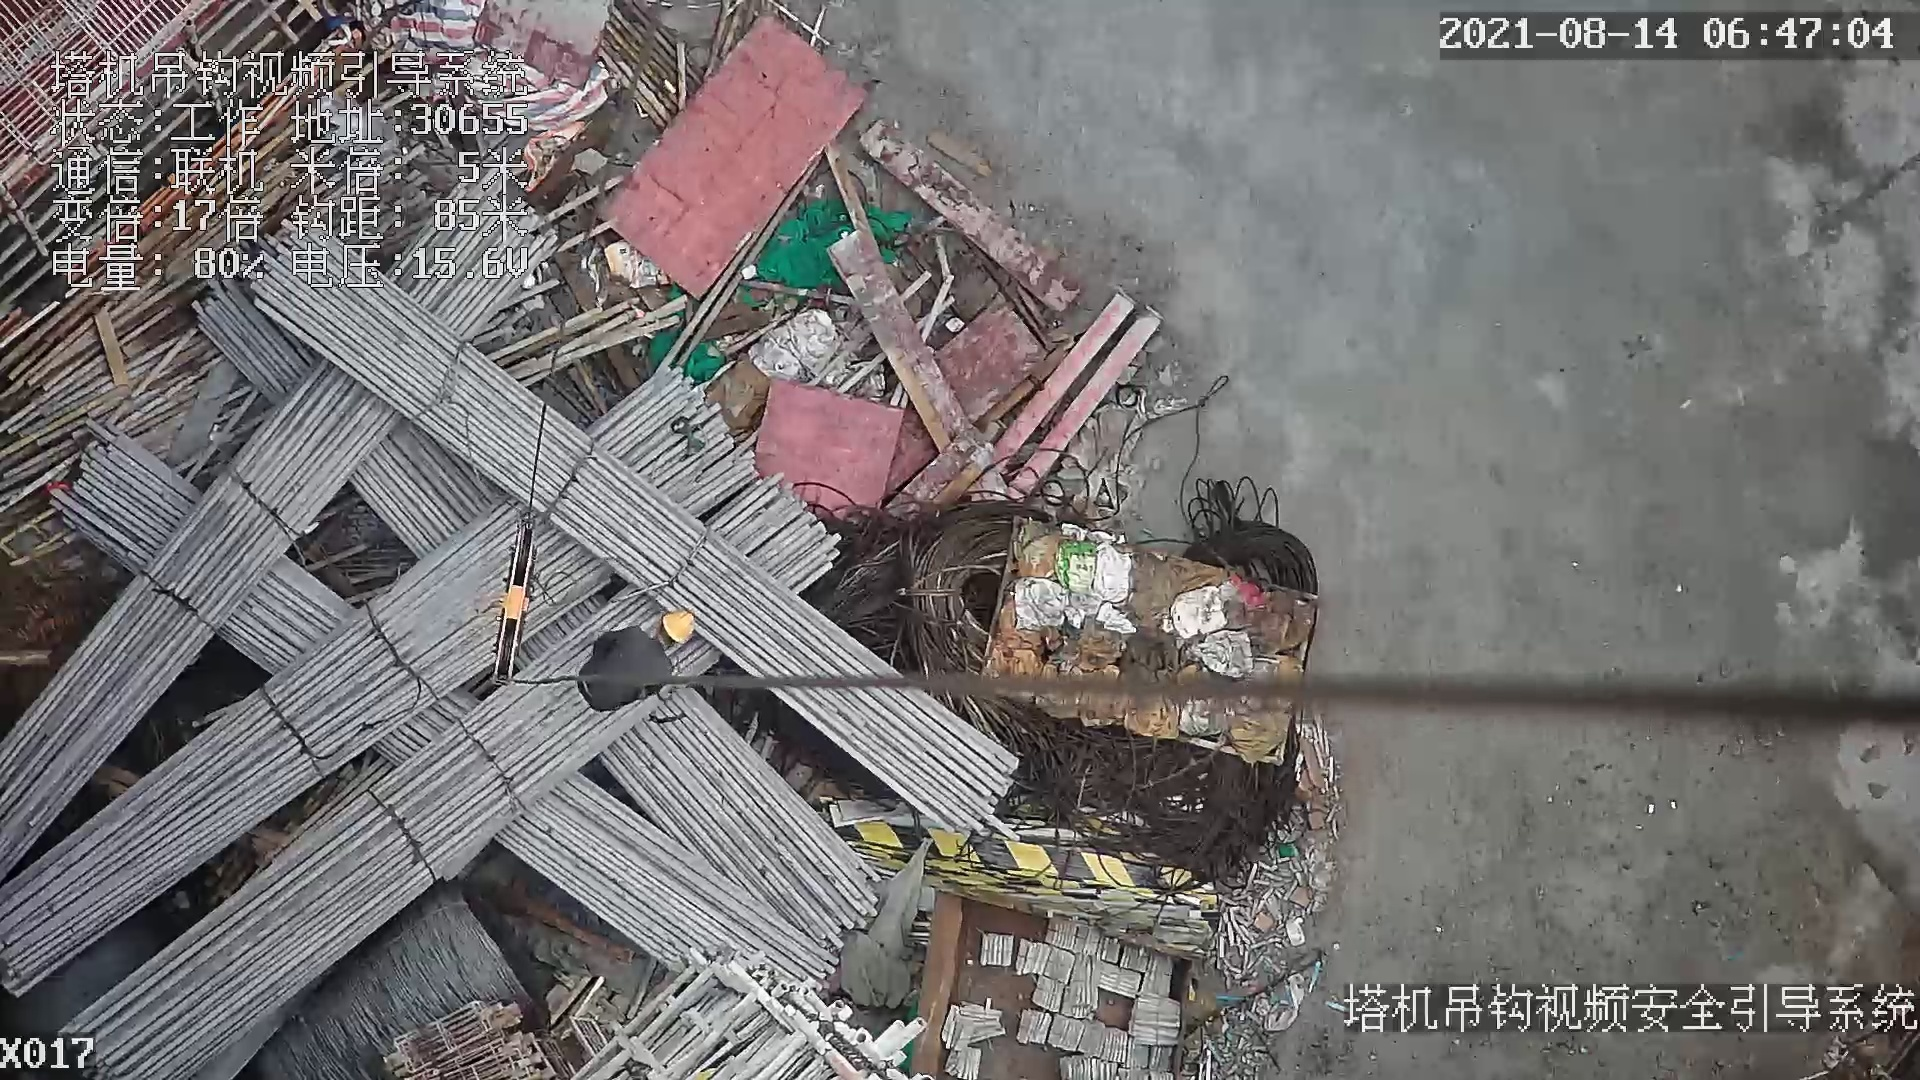board: (580, 9, 867, 305)
helmet: (660, 605, 696, 643)
hook: (483, 513, 542, 699)
person: (565, 605, 697, 709)
